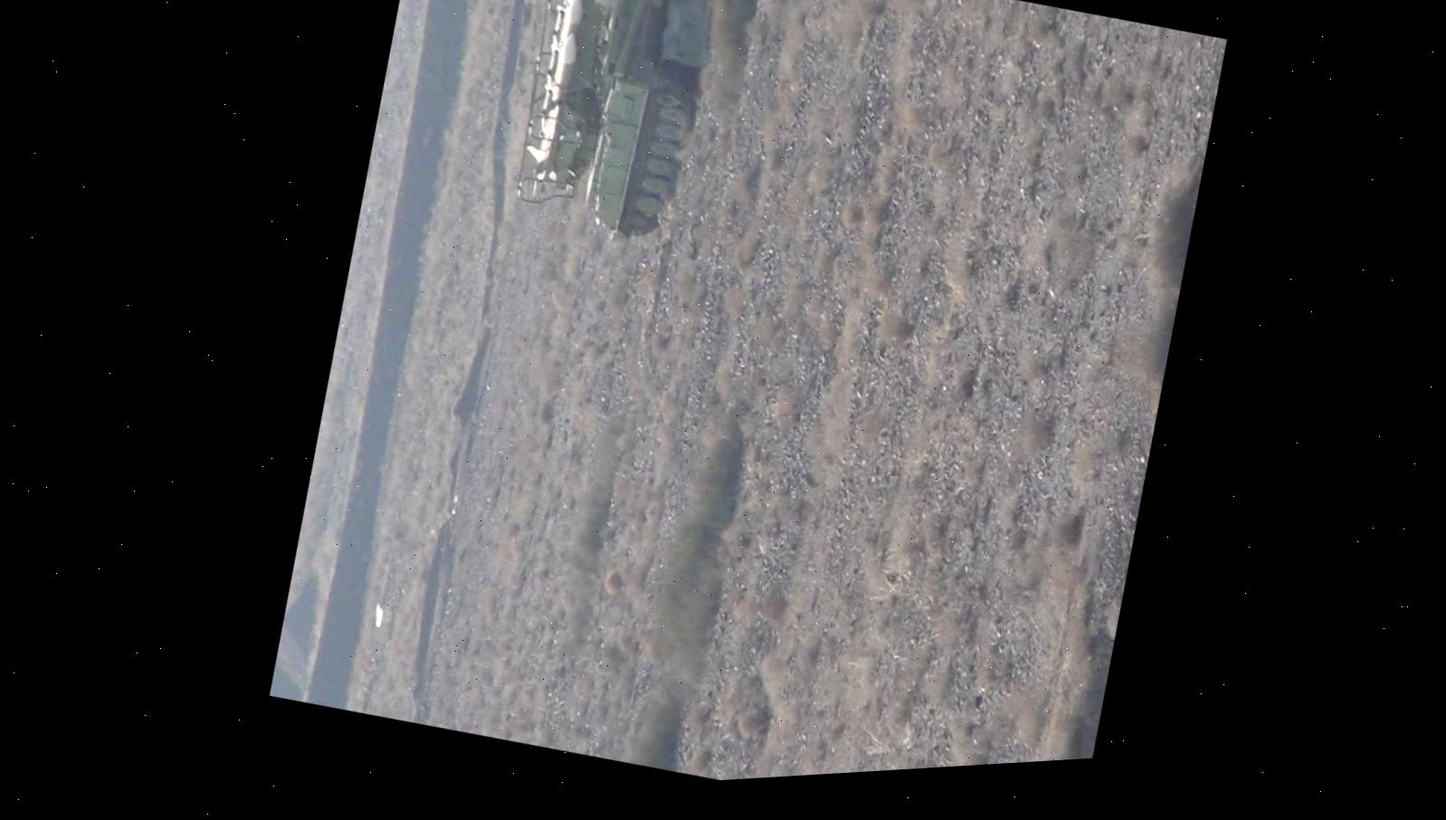armored_car: (489, 0, 744, 256)
